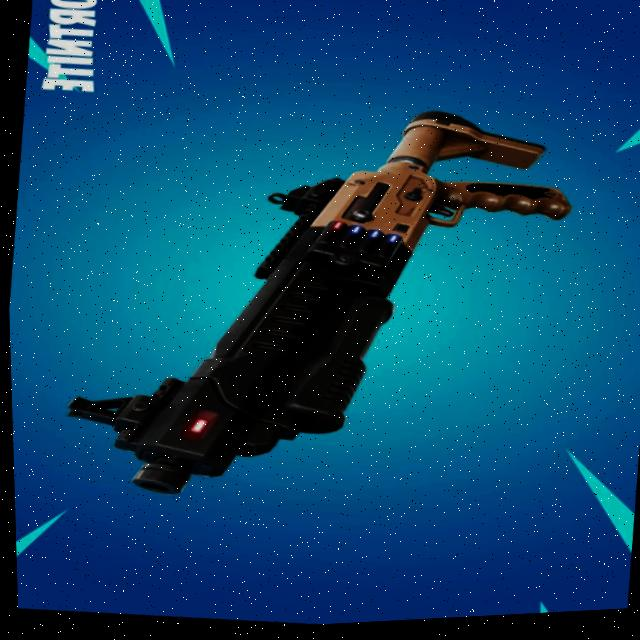firearm: (48, 72, 587, 541)
